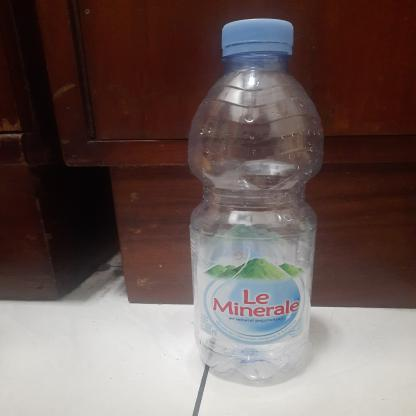plastic: (180, 16, 334, 390)
